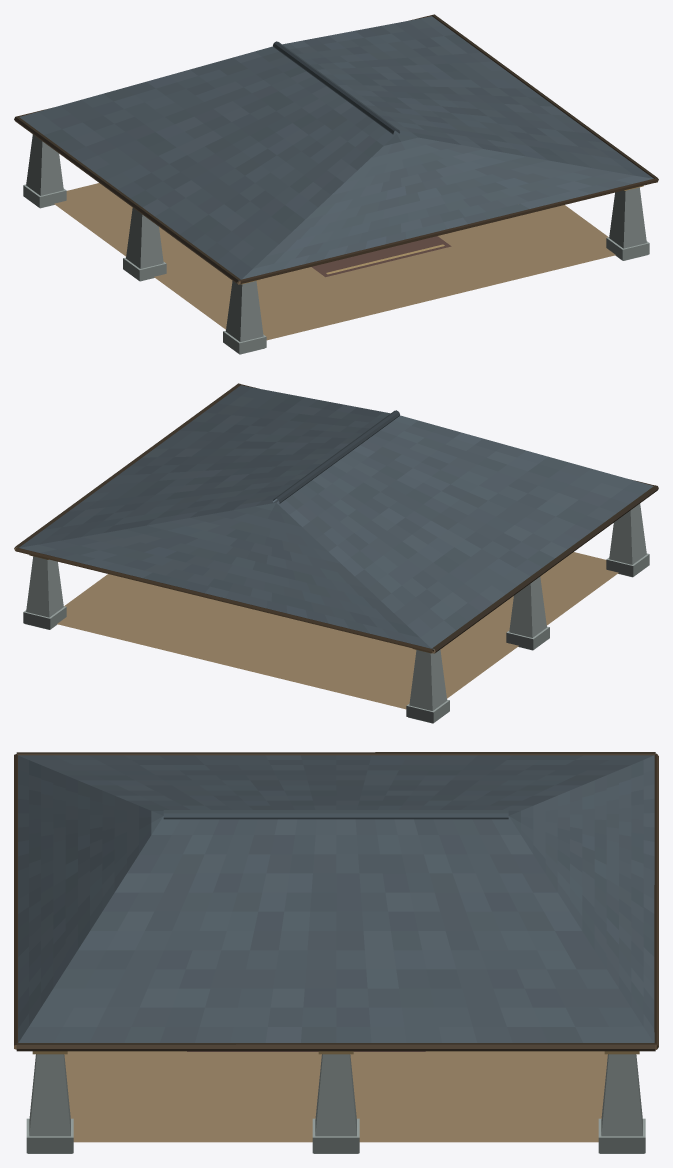
3 views of the same model, one above another, from view 1: azimuth 30°, elevation 25°; view 2: azimuth 150°, elevation 25°; view 3: azimuth 270°, elevation 25° (orthographic). The views are drawn at different scales.
Parts seen in each view (by area): view 1: f6b042f38420c83a0f9135a3c0bd8966158a653ab48b8a911339e012939f; view 2: f6b042f38420c83a0f9135a3c0bd8966158a653ab48b8a911339e012939f; view 3: f6b042f38420c83a0f9135a3c0bd8966158a653ab48b8a911339e012939f.
Part boxes in pixels (x1,y1,x2,y2): f6b042f38420c83a0f9135a3c0bd8966158a653ab48b8a911339e012939f: (14, 14, 658, 354); f6b042f38420c83a0f9135a3c0bd8966158a653ab48b8a911339e012939f: (14, 383, 658, 723); f6b042f38420c83a0f9135a3c0bd8966158a653ab48b8a911339e012939f: (14, 752, 658, 1153).
Size of the model in its own units: 14.02 by 4.46 by 12.97.
Materials: 6 (1 with a texture image).
